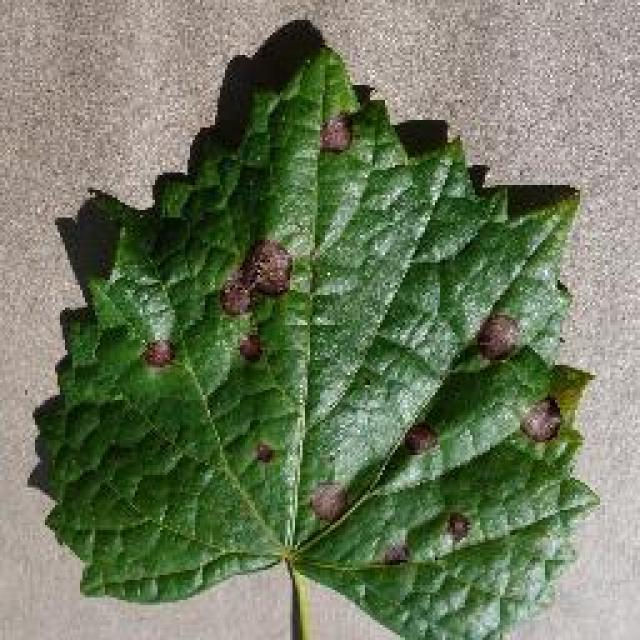Grape___Black_rot: (25, 43, 605, 638)
